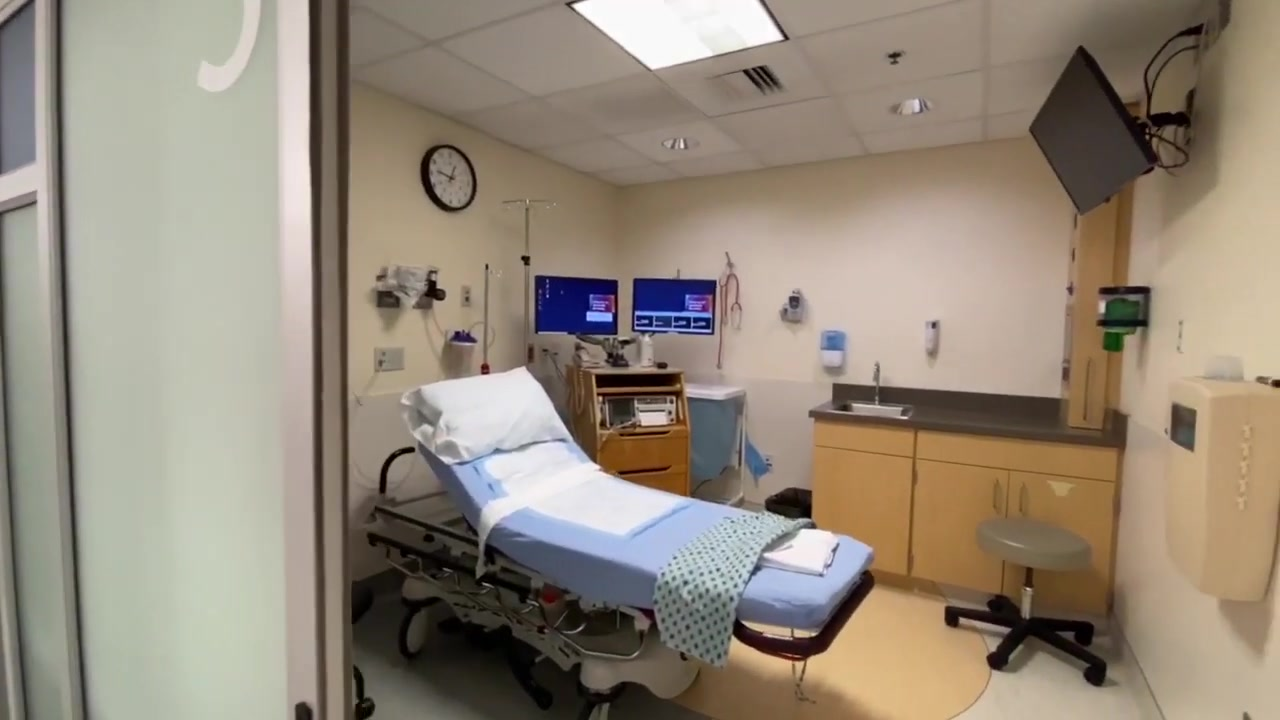TV: (1025, 44, 1159, 216)
cabinet: (809, 399, 1120, 635)
chair: (944, 521, 1108, 688)
computer: (535, 276, 619, 338), (631, 277, 715, 335)
countertop: (810, 397, 1127, 448)
dispenser: (820, 330, 844, 367), (925, 318, 938, 354)
drawer: (563, 369, 697, 495)
exam_table: (362, 367, 873, 712)
faucet: (870, 360, 883, 403)
handle: (1016, 479, 1028, 516), (991, 476, 1001, 510)
iv_pole: (502, 198, 560, 365), (477, 262, 502, 374)
medical_waste_container: (1161, 365, 1279, 603)
sink: (827, 398, 916, 419)
telephone: (571, 349, 604, 368)
waste_bin: (681, 378, 747, 481)
